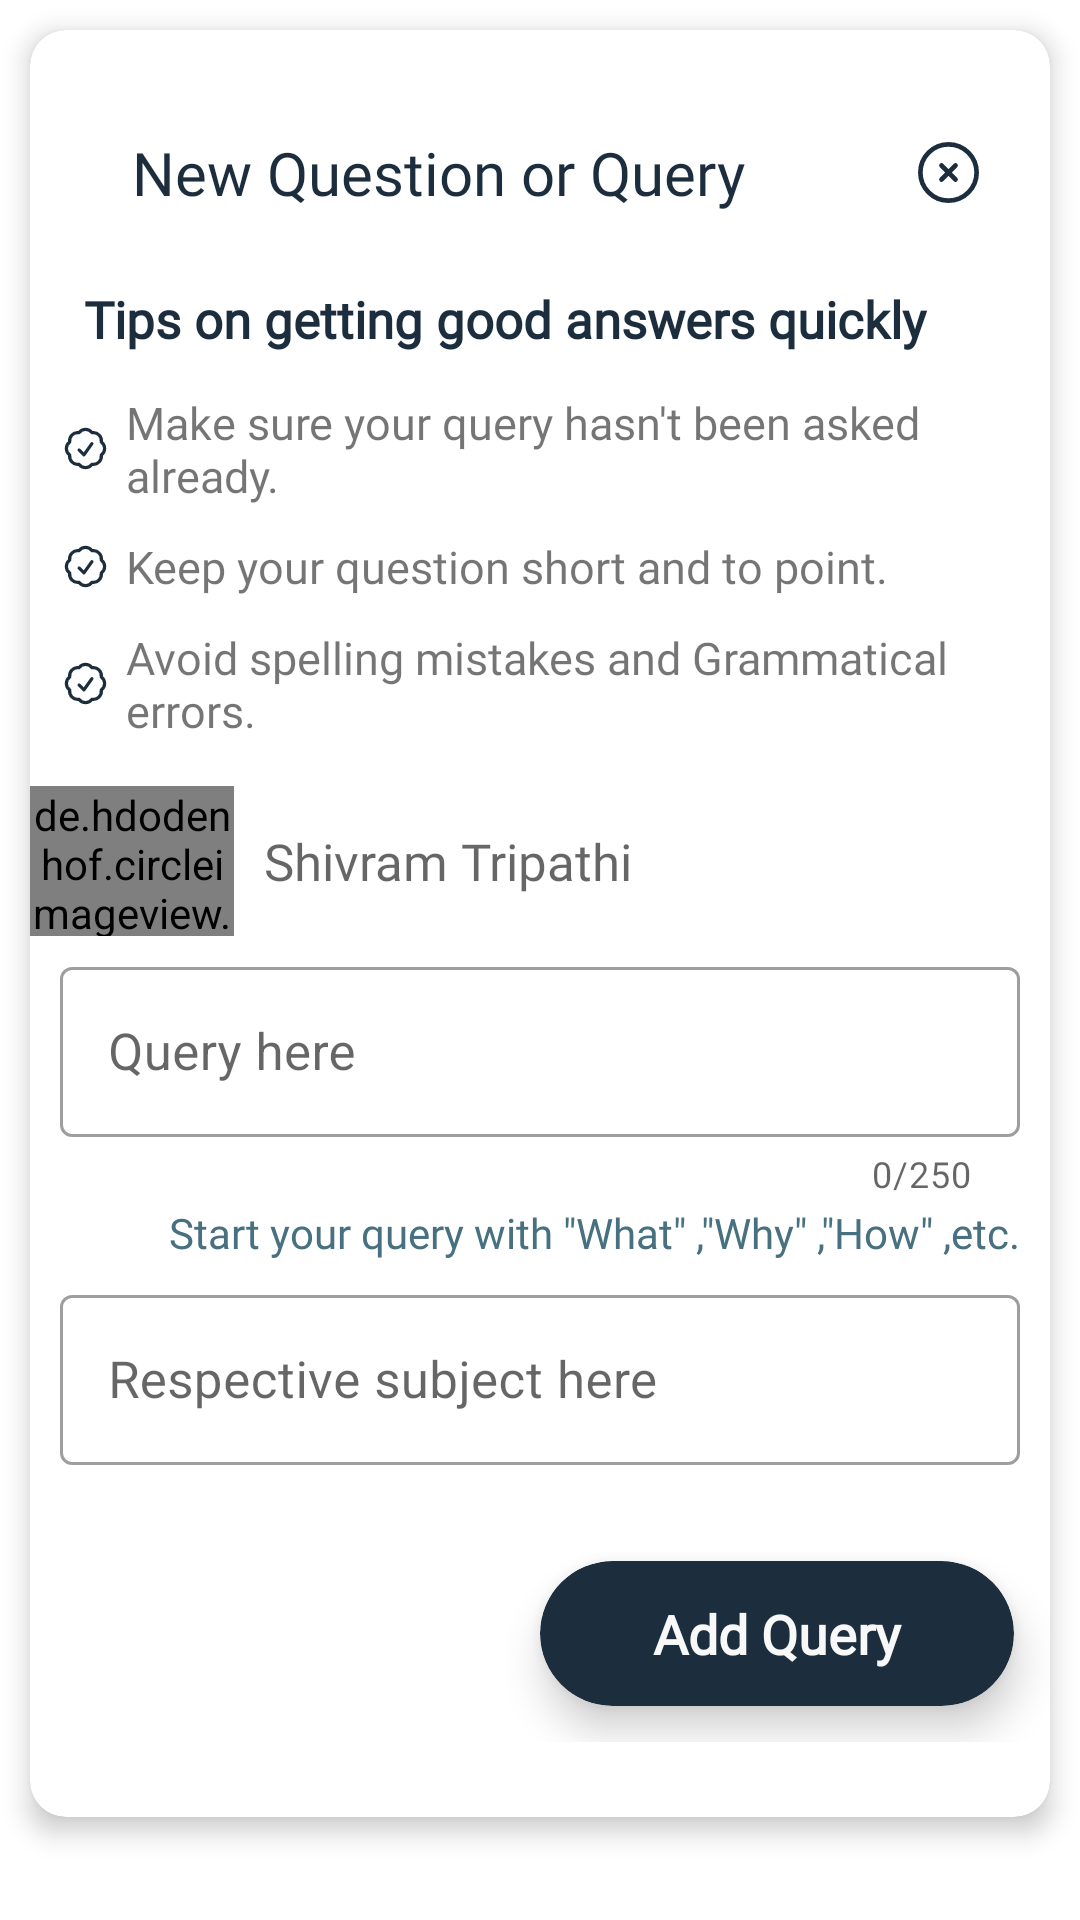

Where icons sit on this 1080×1920 app screen, as (x1, y1, x2, y2):
checkmark: (64, 427, 107, 470), (64, 545, 107, 588), (64, 662, 107, 705)
close: (918, 142, 979, 203)
